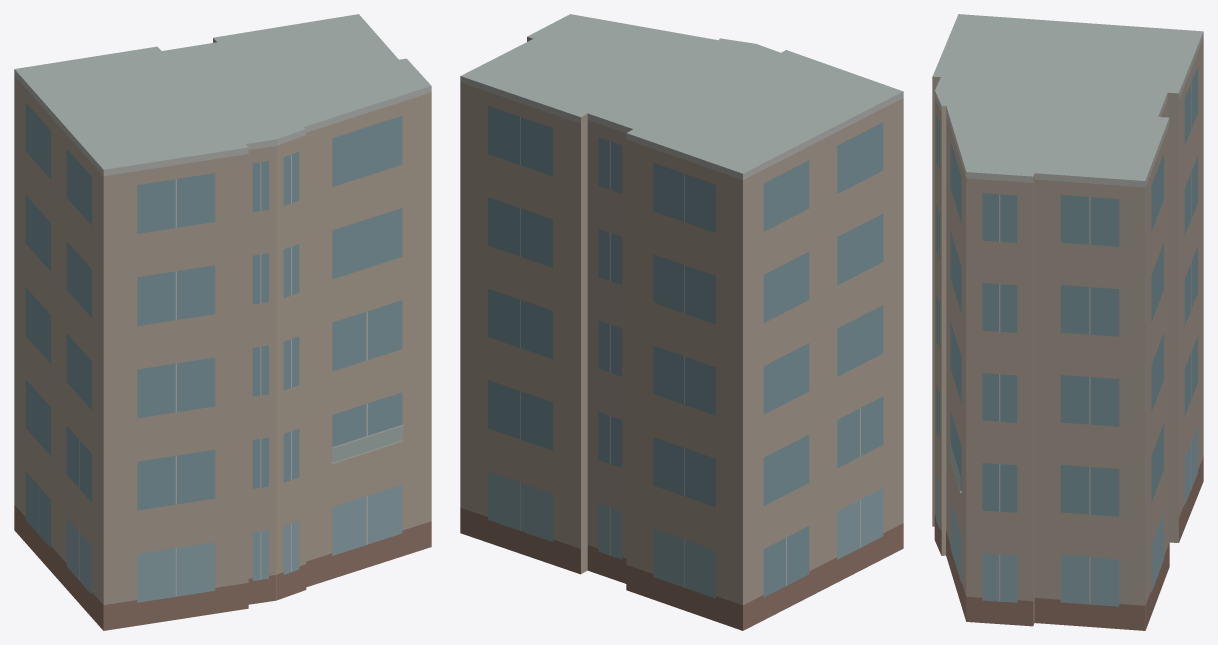
The model's file is survey-upis-32656212.glb.
The picture shows the model from 3 angles, left to right: view 1: azimuth 30°, elevation 25°; view 2: azimuth 150°, elevation 25°; view 3: azimuth 270°, elevation 25°; orthographic projection. The views are drawn at different scales.
Parts seen in each view (by area): view 1: survey-upis-32656212.tmp; view 2: survey-upis-32656212.tmp; view 3: survey-upis-32656212.tmp.
Part boxes in pixels (bbox=[...]): survey-upis-32656212.tmp: bbox=[14, 14, 431, 630]; survey-upis-32656212.tmp: bbox=[460, 14, 903, 630]; survey-upis-32656212.tmp: bbox=[932, 14, 1203, 630].
Bounding box in the file's own units: 13.88 × 17.4 × 9.52.
